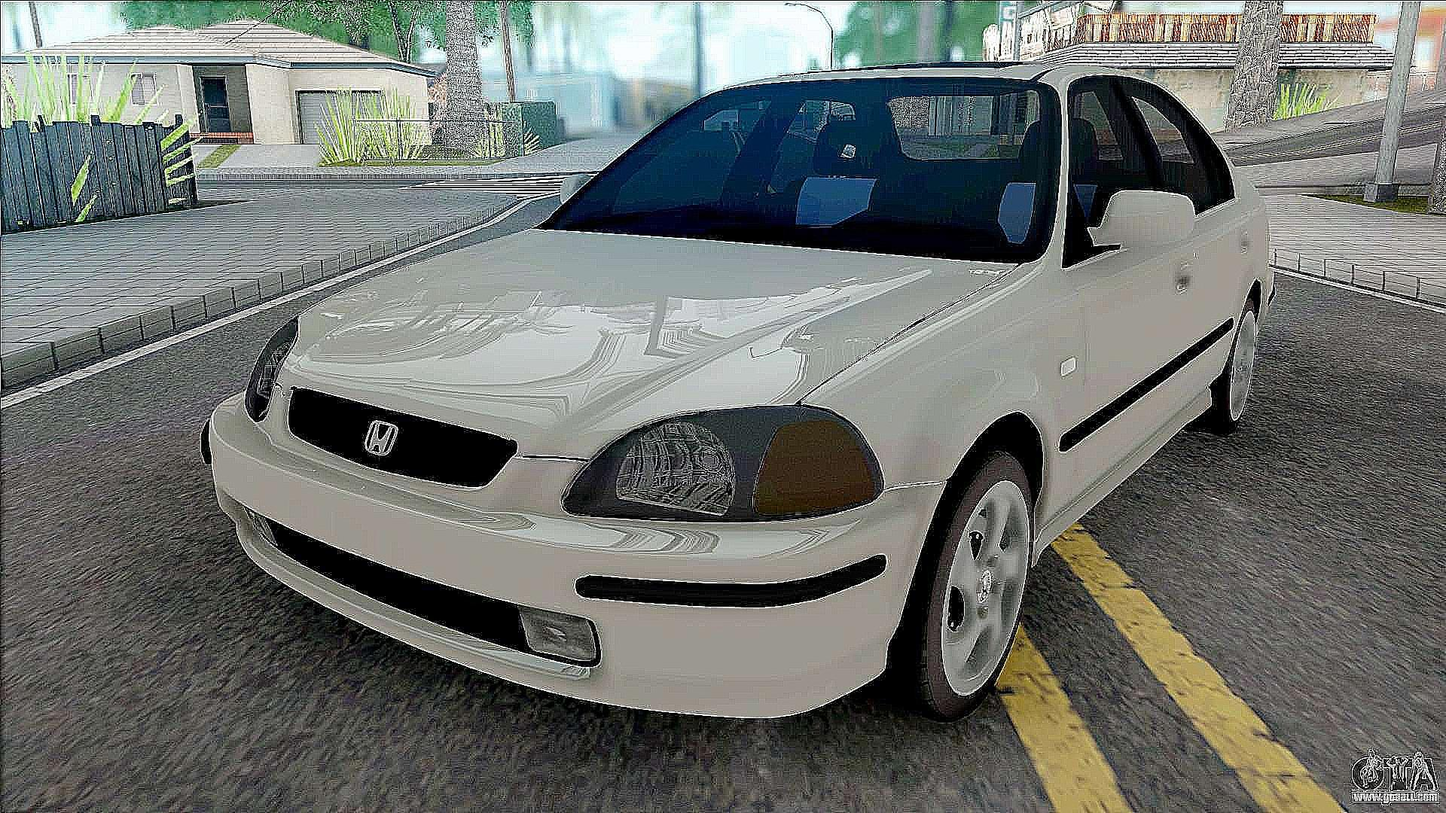Car hood: (274, 222, 1026, 464)
Fender - -F-L-: (799, 256, 1080, 541)
Front bumper: (199, 398, 954, 728)
Headlight - -L-: (556, 399, 889, 534)
Headlight - -R-: (241, 306, 306, 430)
Passenger-s door - -F-L-: (1076, 74, 1197, 503)
Passenger-s door - -R-L-: (1138, 69, 1255, 448)
Side bumper - -L-: (1017, 365, 1240, 580)
Side mirror - -L-: (1079, 182, 1203, 258)
Side mirror - -R-: (554, 163, 606, 217)
